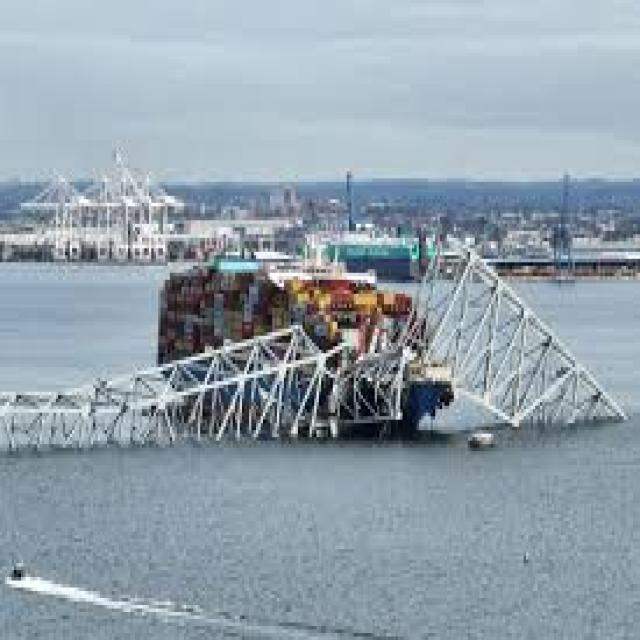bridge collapse: (121, 98, 638, 536)
